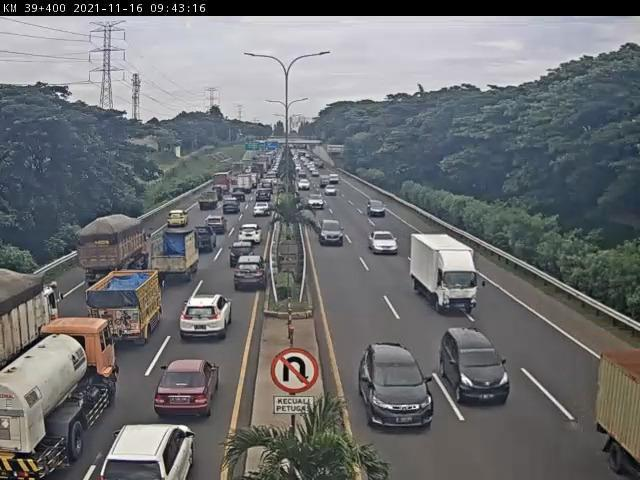car: (355, 338, 444, 437), (439, 330, 520, 408), (104, 425, 195, 480), (156, 361, 219, 419), (181, 292, 238, 343), (234, 254, 269, 293), (322, 217, 346, 250), (372, 228, 399, 256), (188, 232, 215, 259), (230, 240, 256, 266), (197, 193, 219, 214), (242, 225, 265, 245), (166, 210, 190, 229), (205, 217, 226, 237), (367, 199, 387, 219), (252, 203, 271, 220), (220, 201, 240, 217), (255, 195, 272, 211), (310, 193, 325, 210), (228, 193, 244, 207), (261, 182, 274, 197), (324, 187, 339, 200), (206, 192, 218, 207)
truck: (2, 317, 120, 479), (1, 269, 65, 373), (407, 233, 485, 313), (79, 215, 157, 293), (89, 273, 163, 347), (147, 228, 201, 286), (214, 172, 233, 195), (237, 177, 254, 198)
